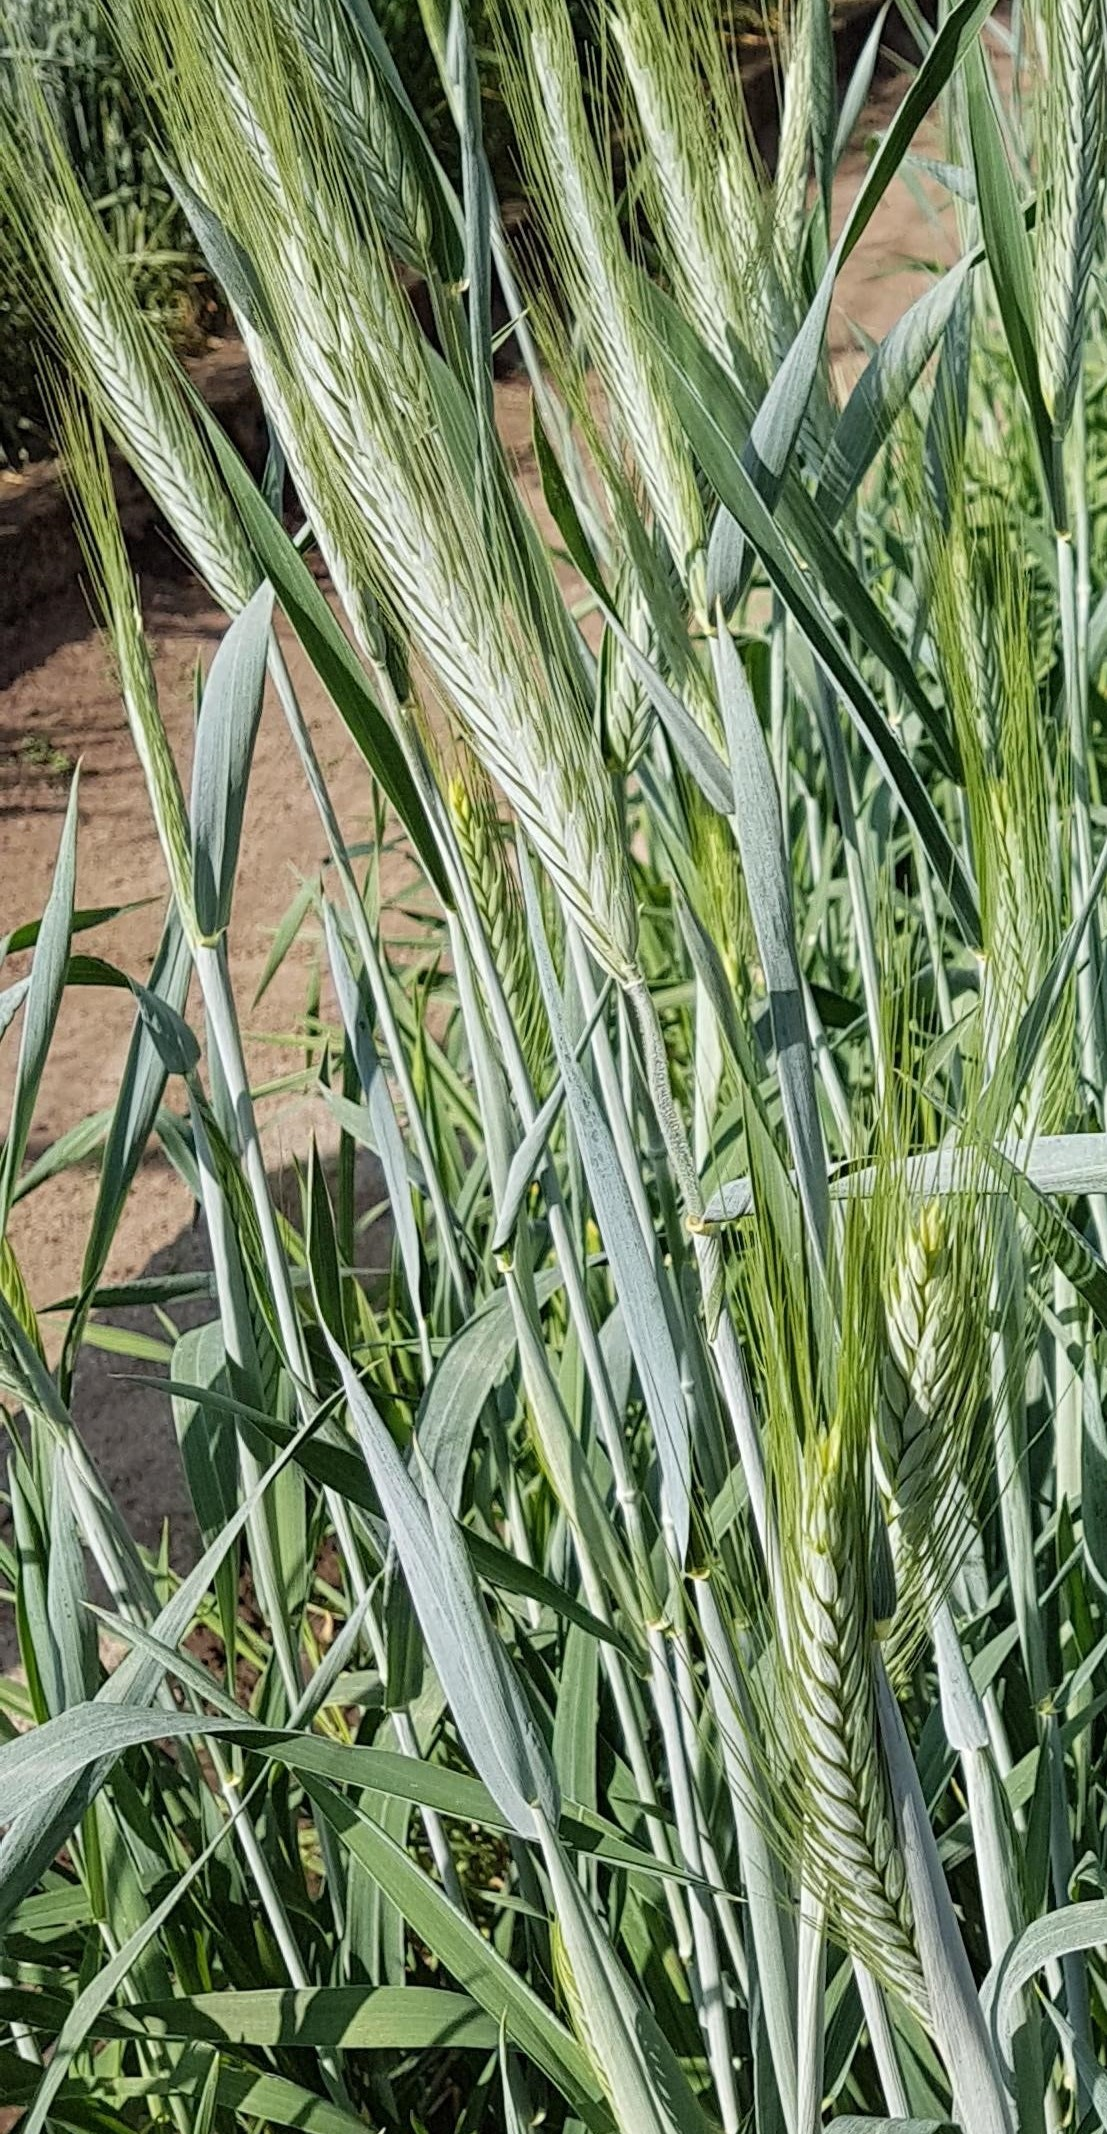Healthy Wheat: (298, 327, 681, 960), (743, 1434, 1001, 1984), (30, 191, 258, 603)
